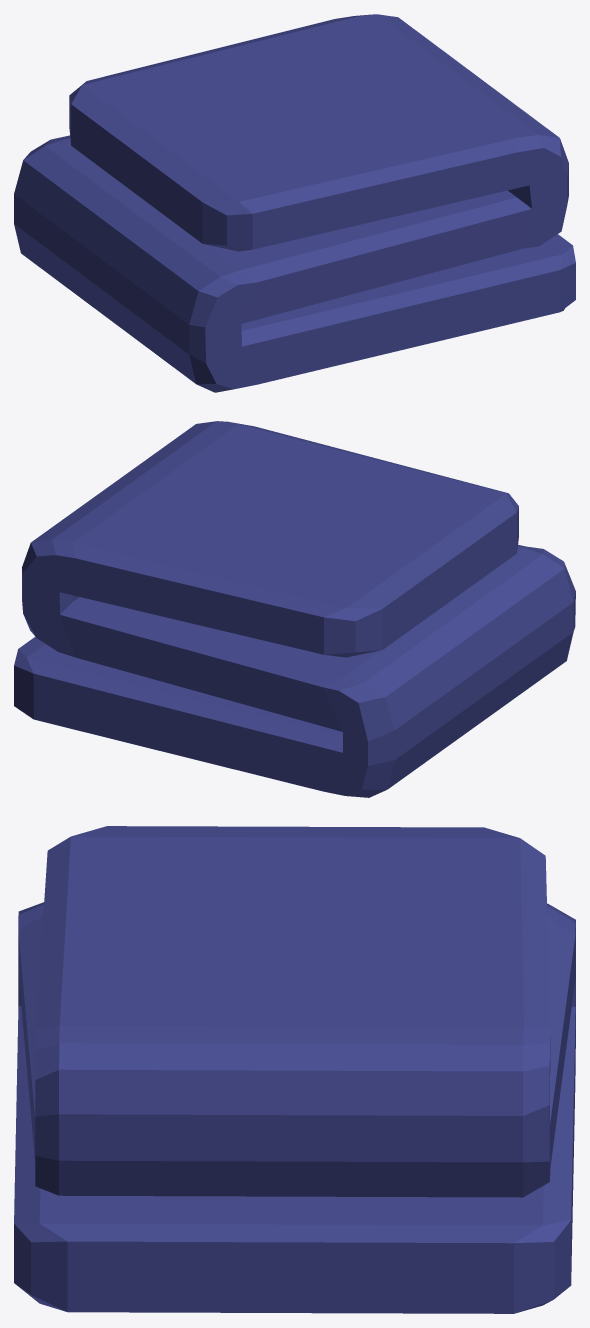
Rendered from linen_resources_blue.fbx.
3 views of the same model, one above another, from view 1: azimuth 30°, elevation 25°; view 2: azimuth 150°, elevation 25°; view 3: azimuth 270°, elevation 25° (orthographic). The views are drawn at different scales.
Visible parts, largest first — view 1: linen_resources_blue; view 2: linen_resources_blue; view 3: linen_resources_blue.
Boxes of the visible parts, <box> form: linen_resources_blue: <box>14,14,575,392</box>; linen_resources_blue: <box>14,421,575,797</box>; linen_resources_blue: <box>14,826,575,1313</box>.
Bounding box in the file's own units: 0.3503 × 0.1506 × 0.306.
